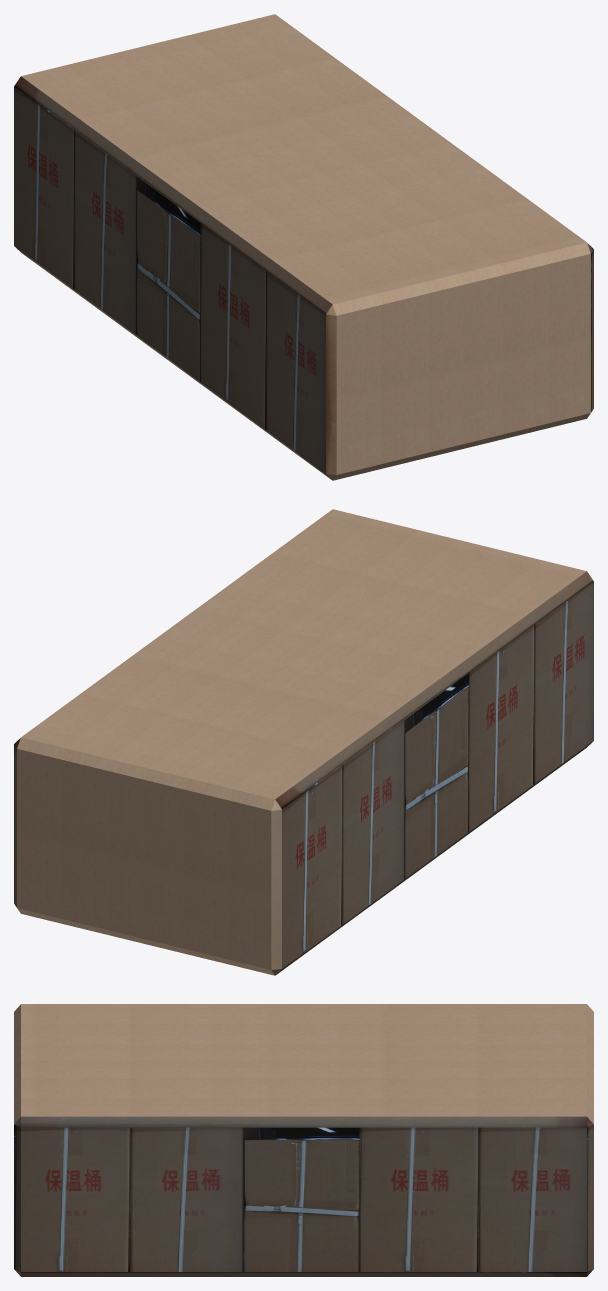
The model's file is baowenhu.FBX.
3 views of the same model, one above another, from view 1: azimuth 30°, elevation 25°; view 2: azimuth 150°, elevation 25°; view 3: azimuth 270°, elevation 25° (orthographic). The views are drawn at different scales.
Parts seen in each view (by area): view 1: 对象104; view 2: 对象104; view 3: 对象104.
Boxes of the visible parts, x1,y1,x2,y2 form: 对象104: (14, 14, 593, 480); 对象104: (14, 509, 593, 975); 对象104: (14, 1004, 593, 1276).
Size of the model in its own units: 0.7354 by 1.52 by 0.4622.
